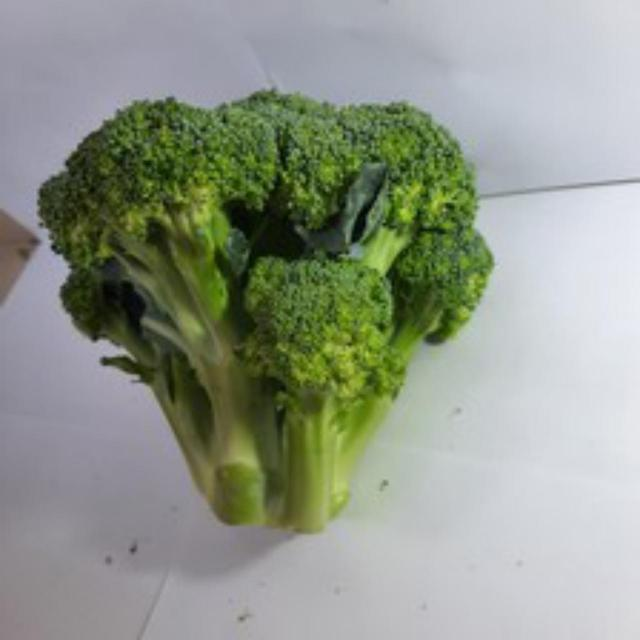broccoli: (21, 62, 506, 542)
